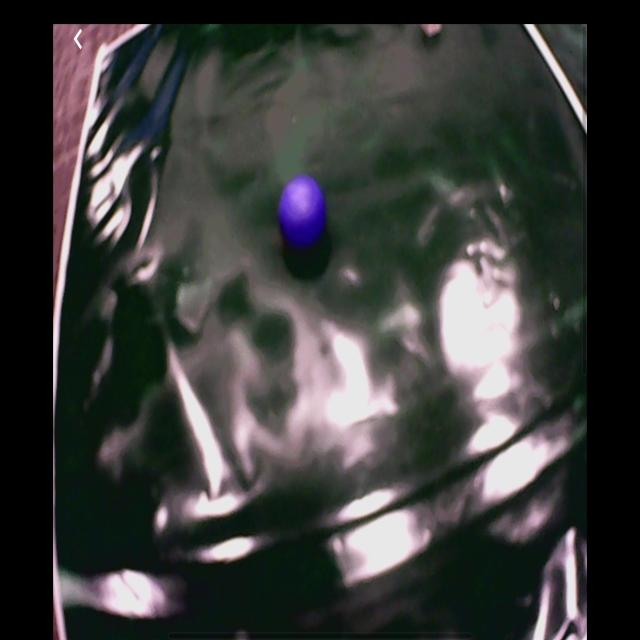ball: (278, 176, 329, 250)
